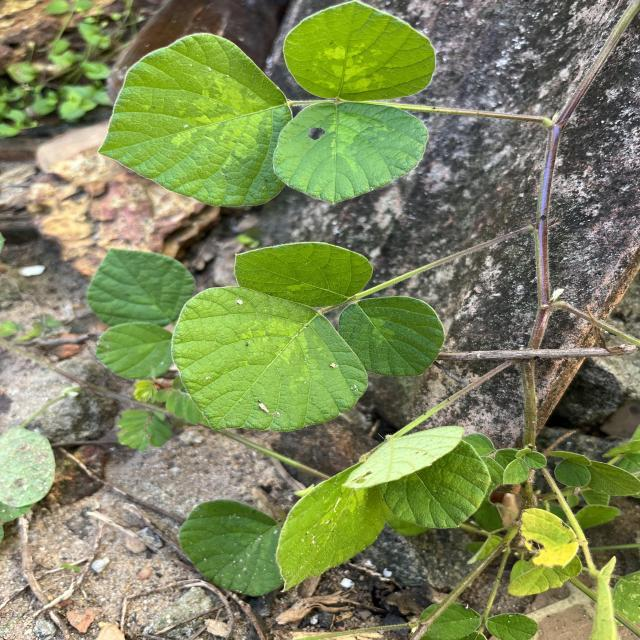Pseudarthria viscida: (96, 0, 439, 210), (168, 240, 448, 433)
